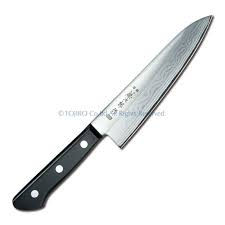kuchillu: (9, 11, 215, 216)
